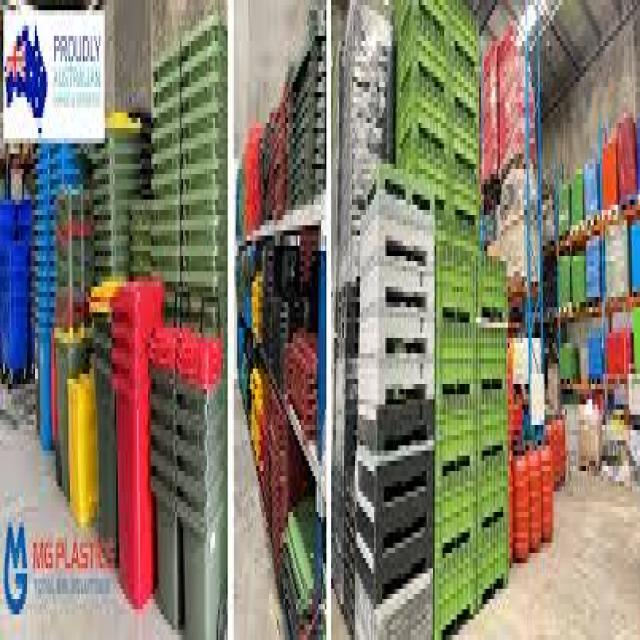basket: (352, 168, 440, 636), (436, 241, 509, 632), (150, 15, 229, 328), (151, 328, 226, 640), (102, 275, 164, 610), (396, 0, 481, 238), (27, 142, 84, 451), (339, 0, 395, 284), (331, 276, 360, 630), (91, 113, 143, 279), (92, 312, 118, 558), (54, 328, 91, 497), (0, 200, 32, 379), (66, 369, 99, 528), (56, 189, 92, 328), (95, 368, 120, 563), (150, 358, 177, 512), (129, 200, 153, 274)
